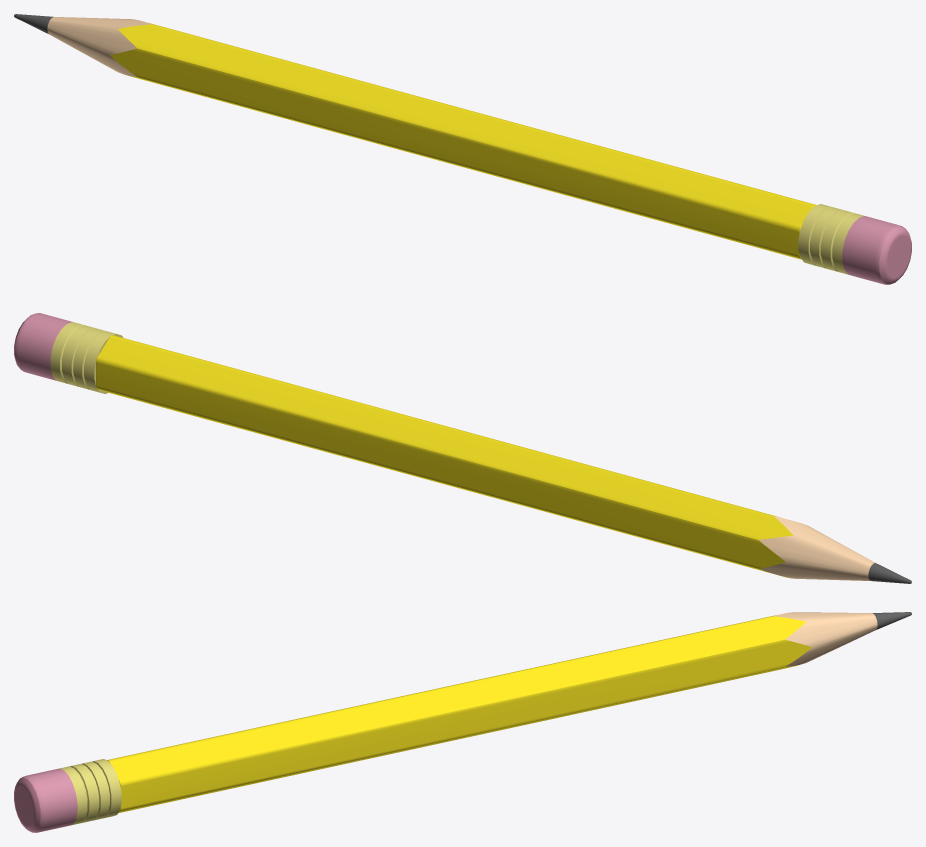
The model's file is pencil.glb.
The picture shows the model from 3 angles, top to bottom: view 1: azimuth 30°, elevation 25°; view 2: azimuth 210°, elevation 25°; view 3: azimuth 270°, elevation 25°; orthographic projection. The views are drawn at different scales.
Visible parts, largest first — view 1: polySurface2, polySurface3, polySurface5, polySurface6; view 2: polySurface2, polySurface5, polySurface6, polySurface3; view 3: polySurface2, polySurface3, polySurface5, polySurface6.
Part boxes in pixels (<box>): polySurface2: <box>110,23,816,259</box>; polySurface3: <box>842,216,911,284</box>; polySurface5: <box>47,17,151,76</box>; polySurface6: <box>798,204,864,274</box>; polySurface2: <box>96,335,793,578</box>; polySurface5: <box>759,516,875,580</box>; polySurface6: <box>50,322,123,393</box>; polySurface3: <box>14,313,72,380</box>; polySurface2: <box>107,615,812,812</box>; polySurface3: <box>14,768,77,832</box>; polySurface5: <box>774,612,877,666</box>; polySurface6: <box>60,759,121,825</box>.
Bounding box in the file's own units: 0.061 × 0.00762 × 0.1143.
